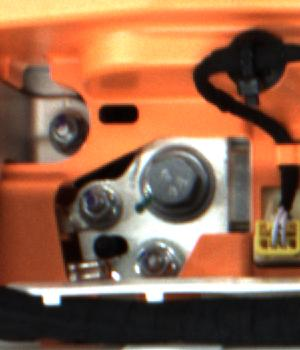nut_b: (135, 136, 232, 232)
screw_s: (41, 111, 82, 154), (134, 244, 181, 281), (74, 186, 113, 228)
